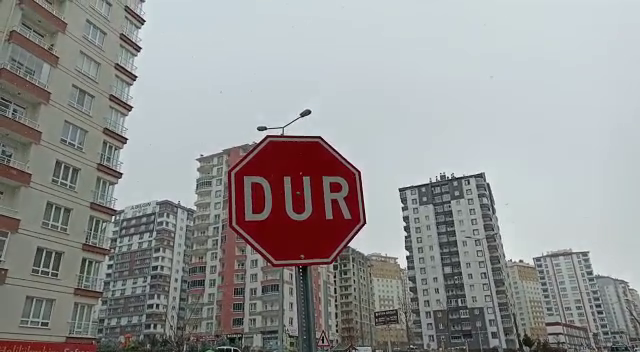stop: (224, 132, 370, 270)
